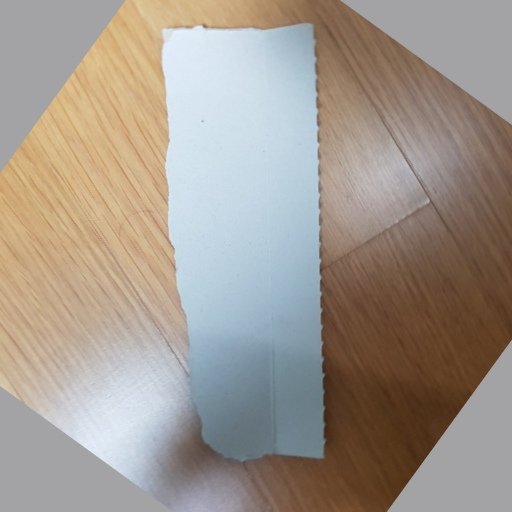Paper_2: (162, 23, 341, 461)
